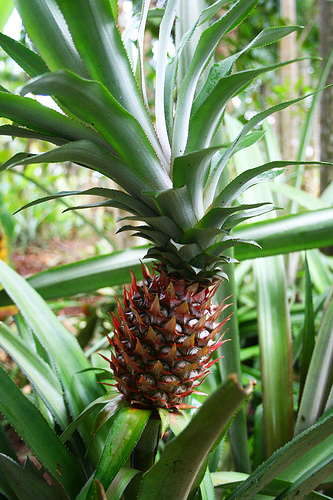pineapple: (8, 0, 297, 405)
